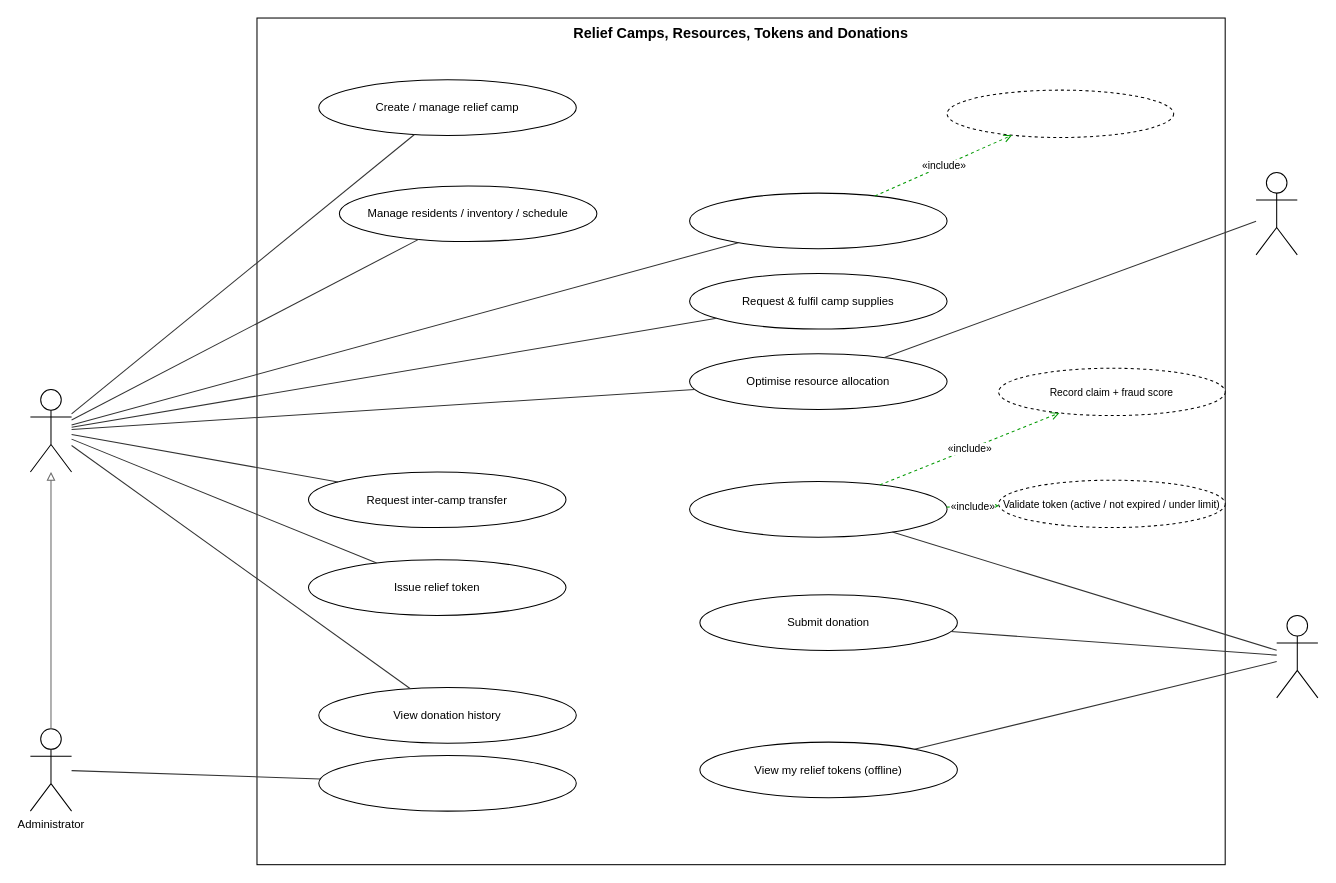
Image size: 1336x883. Some labels were removed from this diagram. The shapes that lost their labels are listed below. From the top down, each one's centre as x and y in pixels, then its label:
At (1060,113): "Enforce occupancy <= capacity".
At (818,220): "Update camp occupancy".
At (1276,213): "ML Service".
At (50,430): "DMC Officer".
At (818,508): "Claim relief token".
At (1297,656): "Citizen".
At (447,782): "Manage donor campaign".
